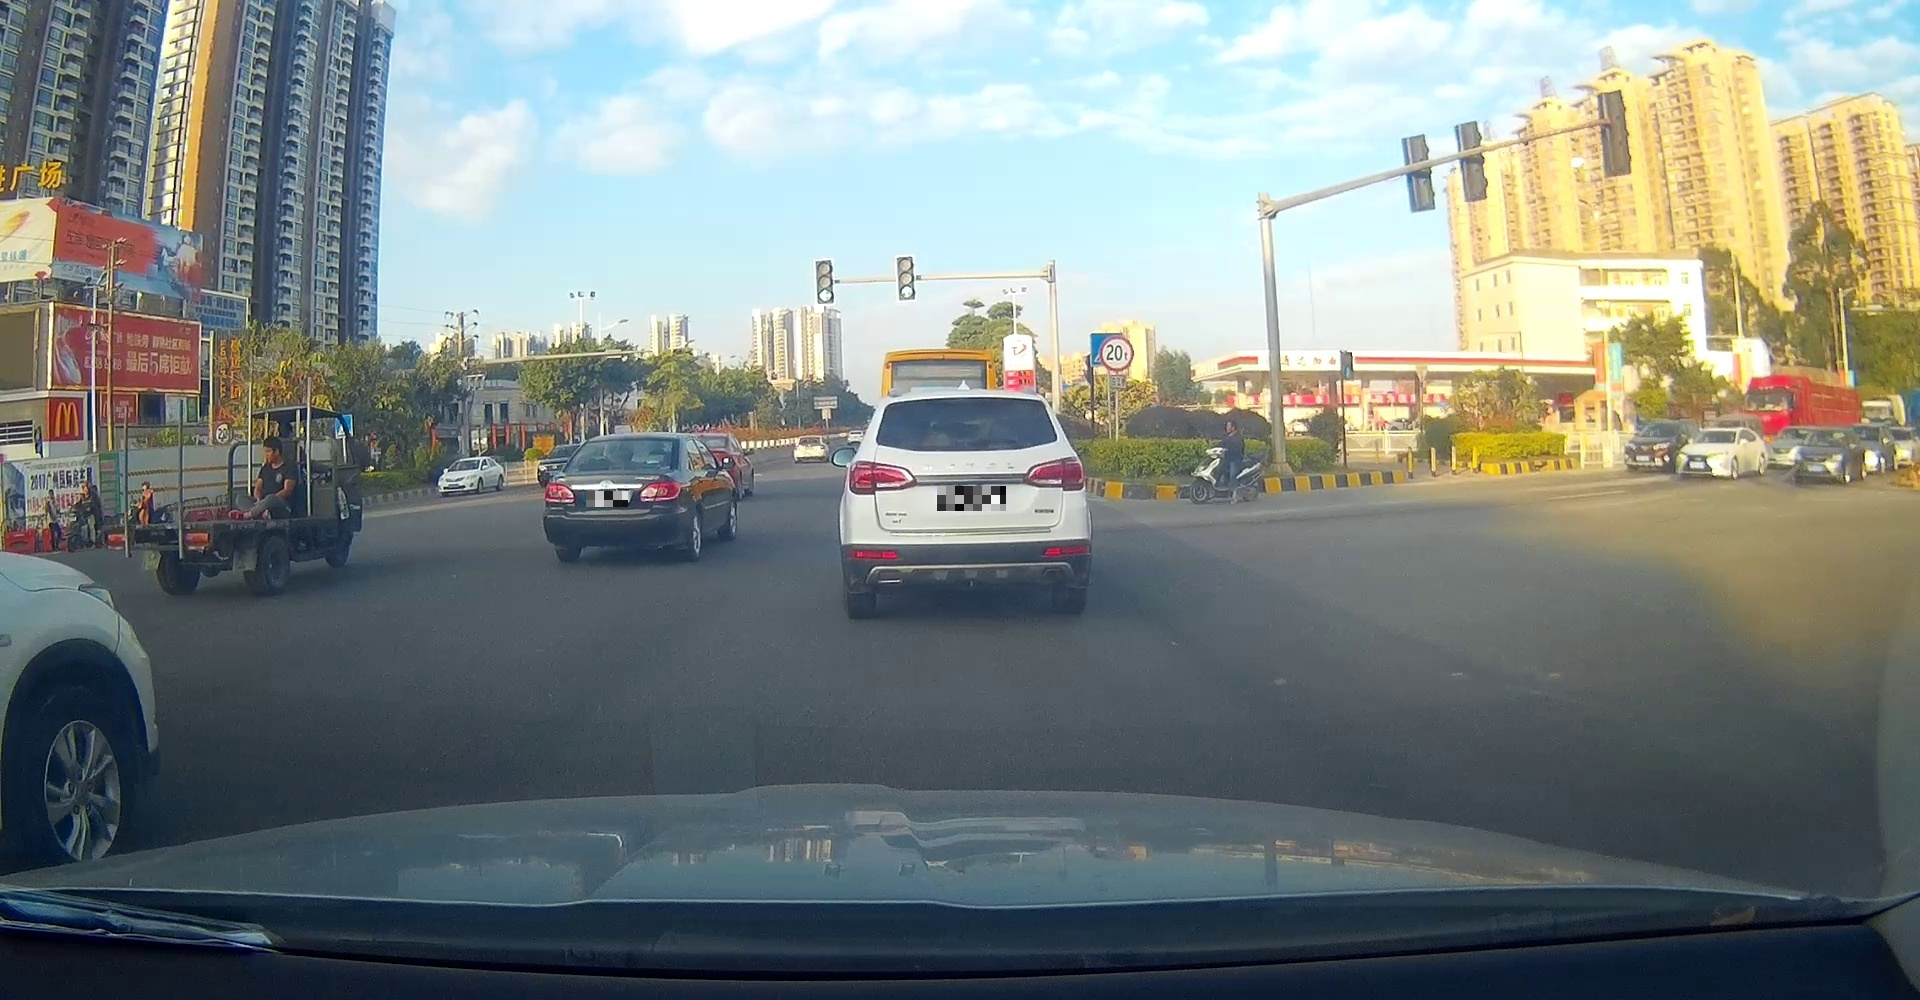L_light: (850, 459, 917, 495), (543, 482, 575, 503)
R_light: (1023, 456, 1084, 491), (639, 481, 682, 503)
T_light: (945, 398, 999, 404), (608, 466, 623, 470)
day-no: (839, 387, 1092, 619), (542, 431, 684, 561)
plate_1: (585, 491, 629, 508)
plate_2: (937, 486, 1006, 511)
